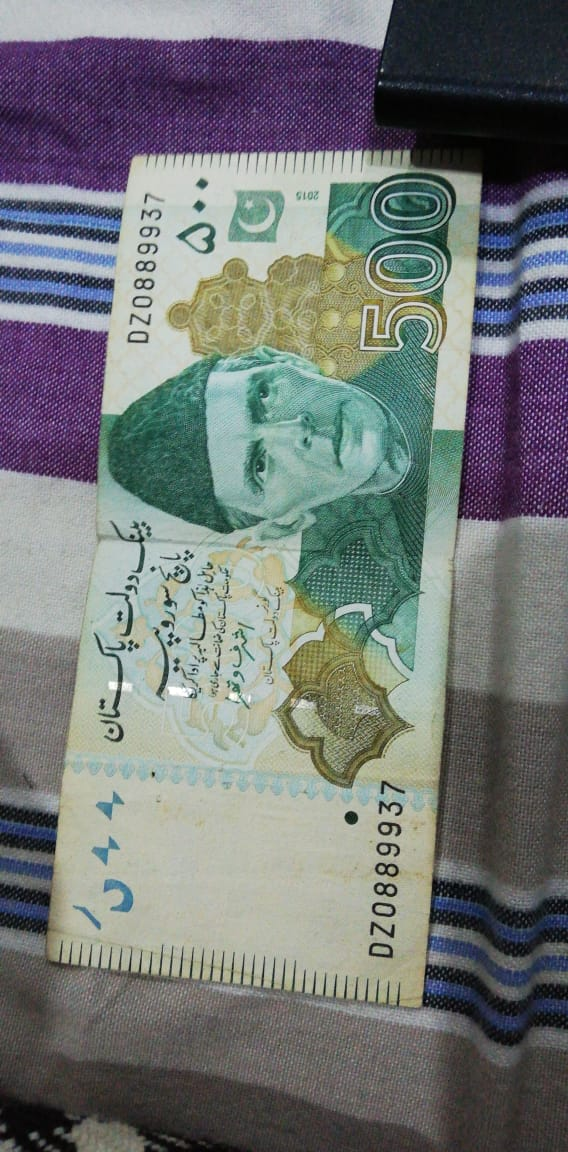500 rupee: (59, 135, 483, 1027)
